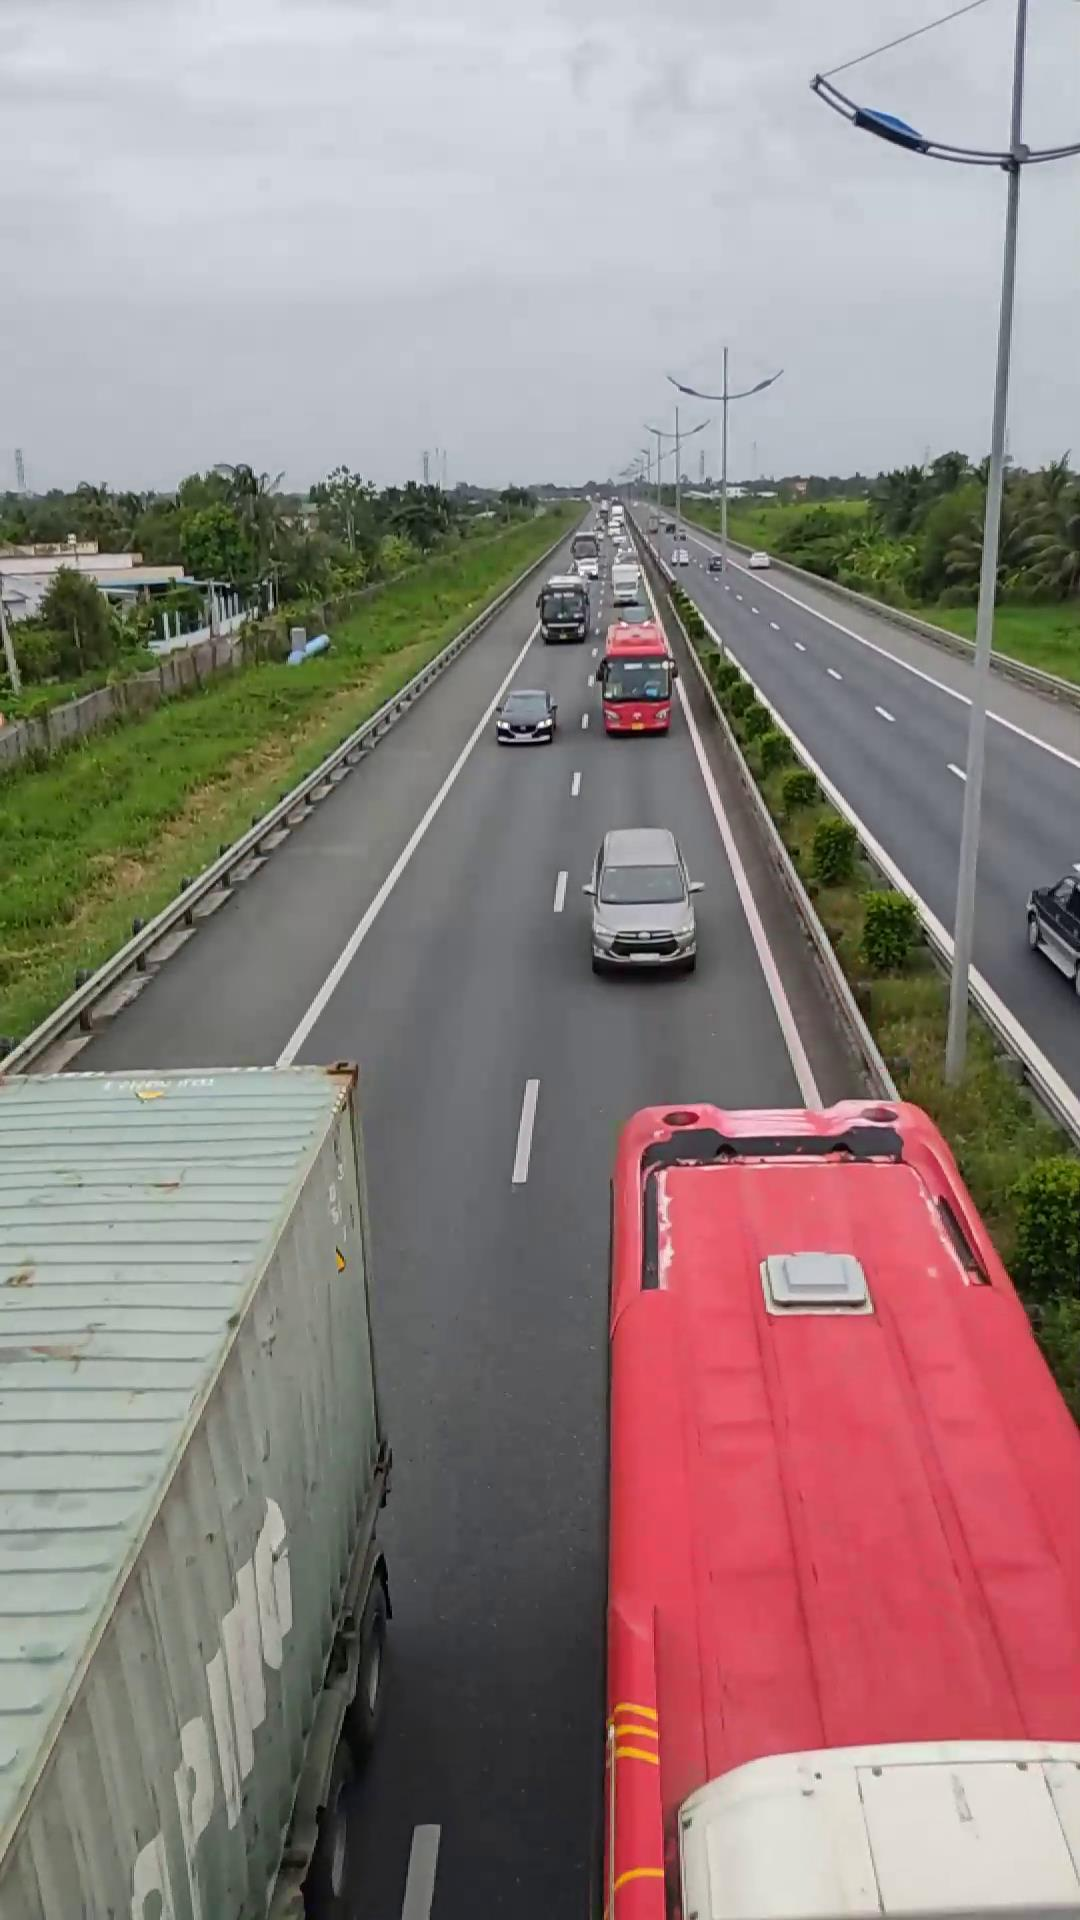bus: (609, 1100, 1080, 1918)
car: (578, 826, 702, 973)
container: (0, 1058, 406, 1917)
